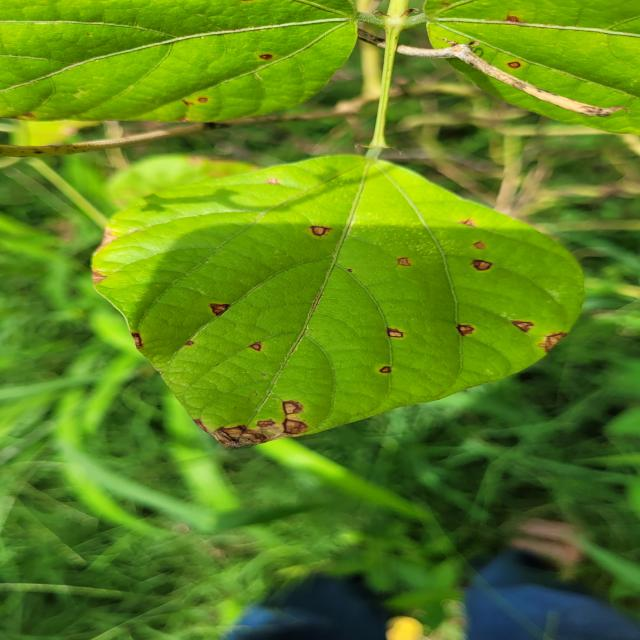Dolicos bean_cercospora leaf spot: (91, 157, 598, 444), (0, 0, 364, 138), (415, 0, 640, 134)
